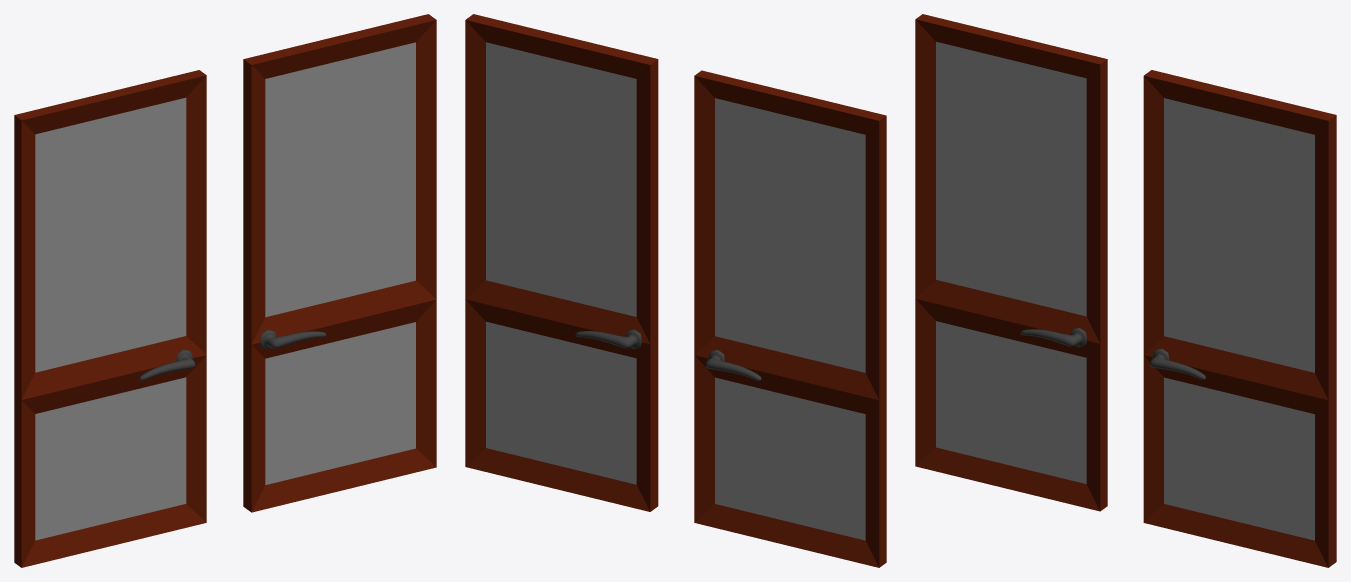
File: dooroutside2v.fbx
The picture shows the model from 3 angles, left to right: view 1: azimuth 30°, elevation 25°; view 2: azimuth 150°, elevation 25°; view 3: azimuth 330°, elevation 25°; orthographic projection.
Visible parts, largest first — view 1: Cube.002, Cube.003; view 2: Cube.002, Cube.003; view 3: Cube.002, Cube.003.
Part boxes in pixels (box(x1,y1,x2,y2)): Cube.002: box(243, 14, 436, 512); Cube.003: box(14, 70, 206, 567); Cube.002: box(465, 14, 658, 511); Cube.003: box(694, 70, 886, 567); Cube.002: box(1143, 70, 1336, 567); Cube.003: box(915, 14, 1107, 511).
Bounding box in the file's own units: 1567 × 1617 × 171.
